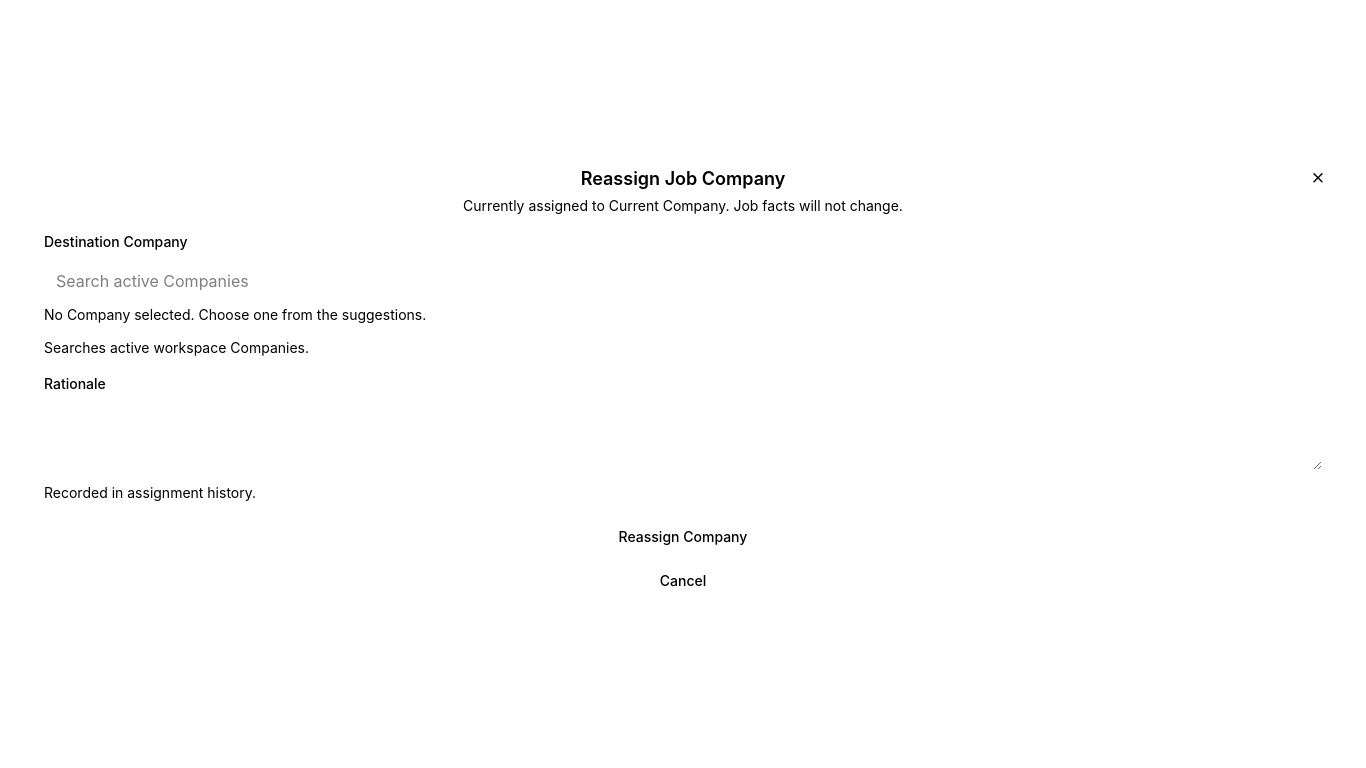
it: JobCompanyReassignmentModal › keeps stale recovery blocked in the modal without changing the destination
Type "Destination" into the dropdown labelled "Destination Company".
click(683, 281); type("Destination")  # box [44,263,1322,299]
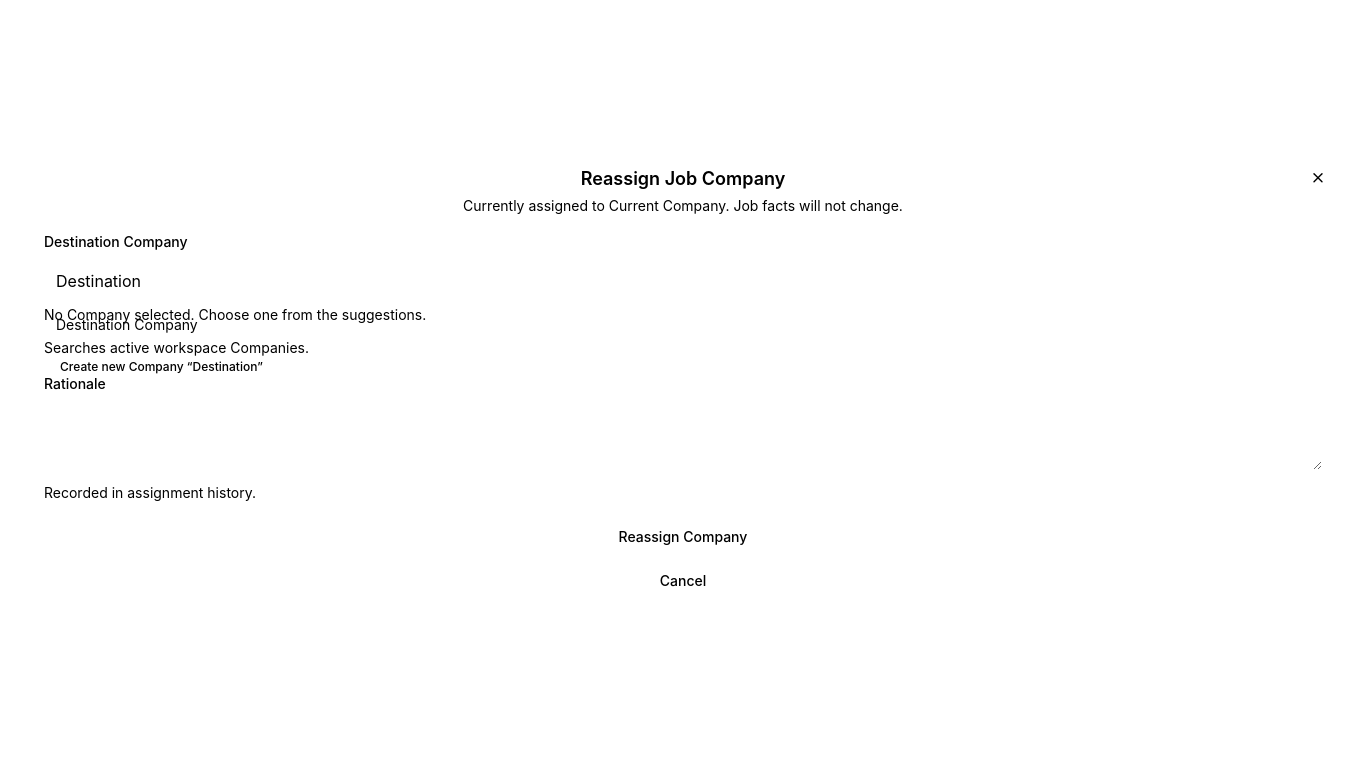
Now the option "Destination Company" is shown
Click the option "Destination Company".
click(127, 324)  # box [56,316,198,333]
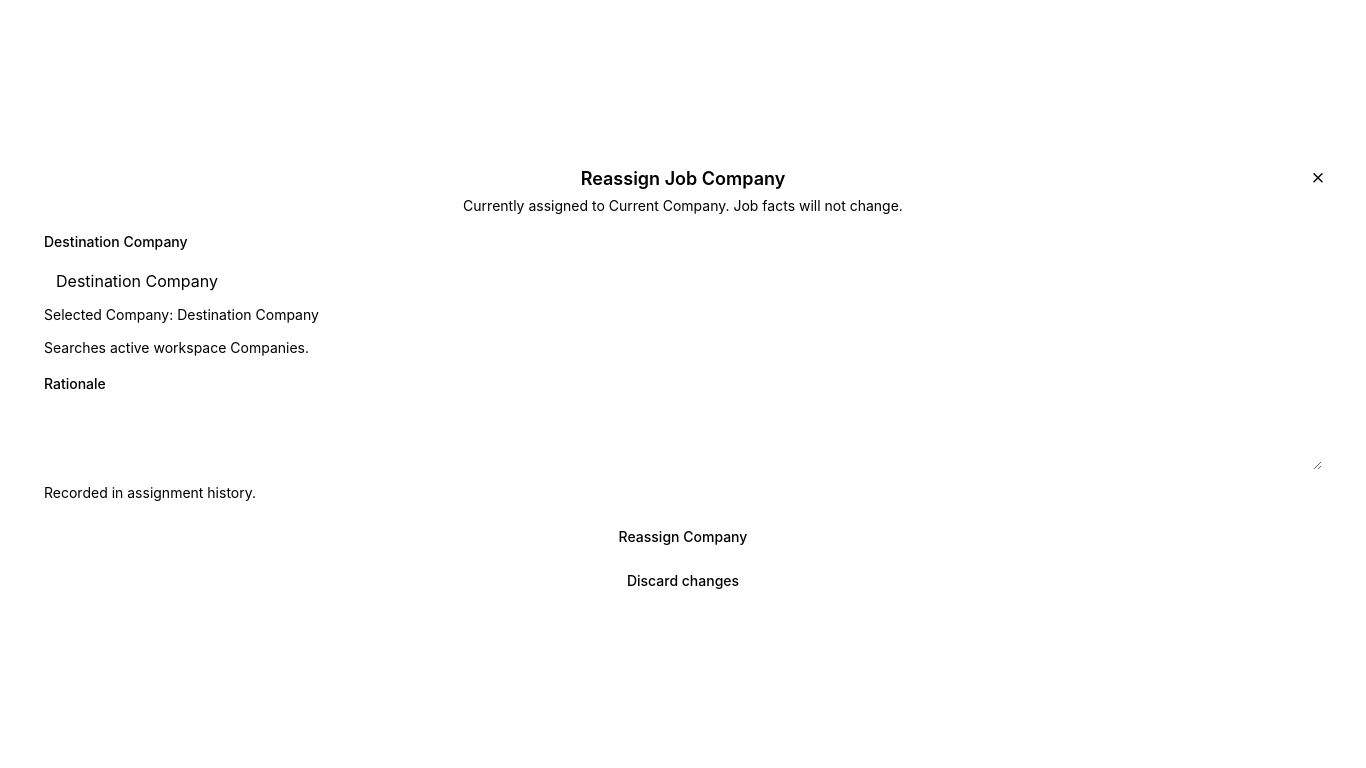
Type "Correct assignment" into the text box labelled "Rationale".
click(683, 437); type("Correct assignment")  # box [44,405,1322,469]
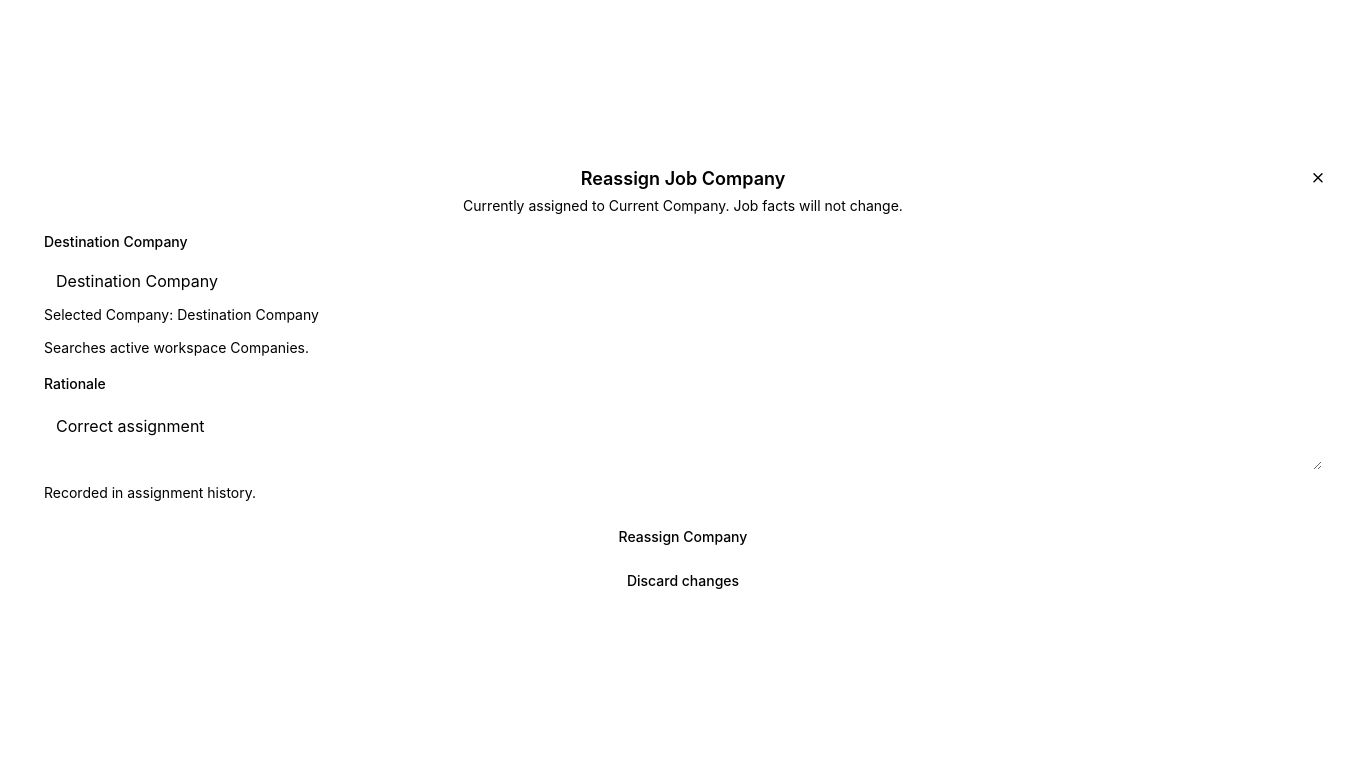
Click the button "Reassign Company".
click(683, 536)  # box [40,518,1326,554]
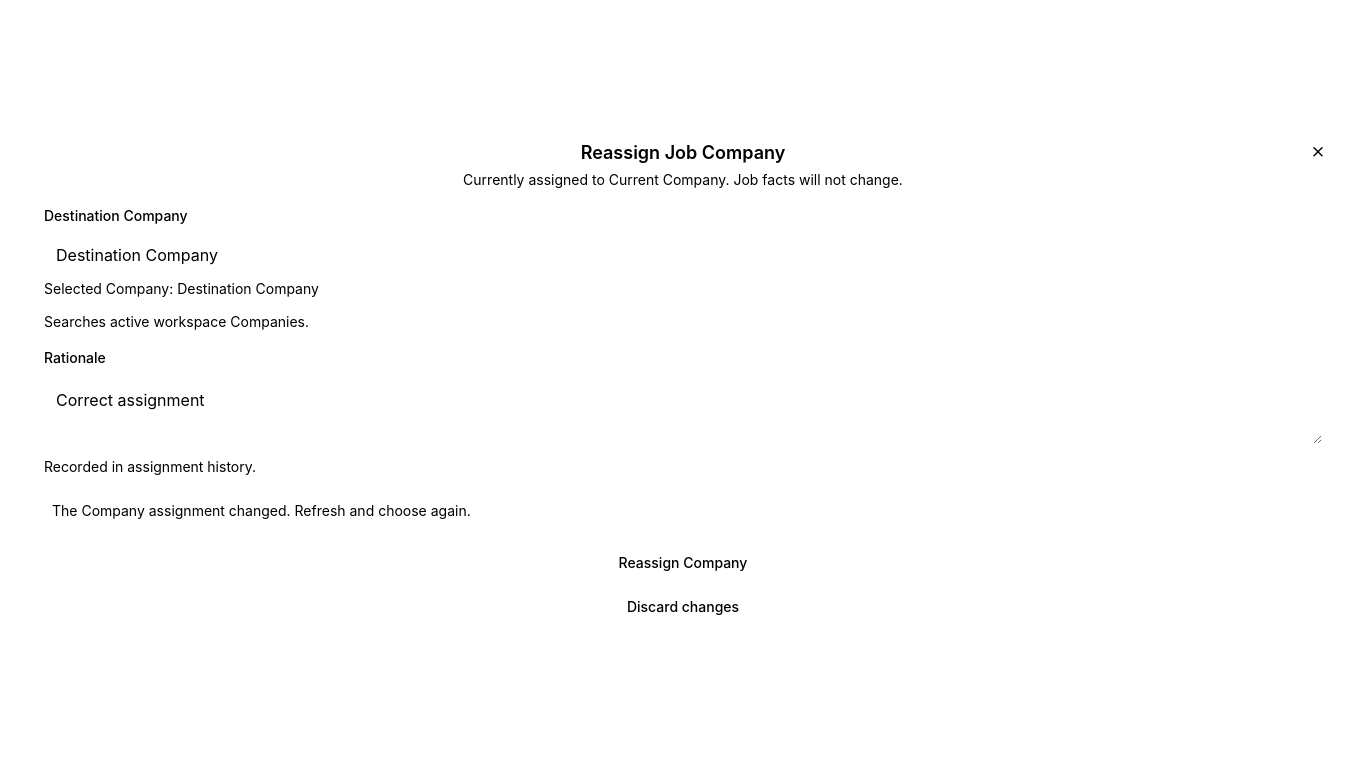
Now the message reads "The Company assignment changed. Refresh and choose again.", box [52,501,471,518]
